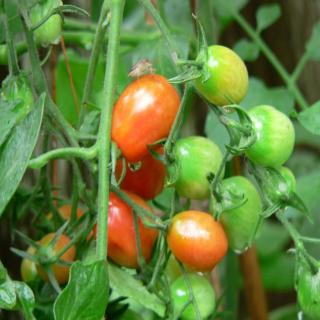tomato: (112, 67, 184, 162), (92, 188, 160, 270), (208, 175, 264, 251), (164, 209, 228, 271), (166, 136, 227, 200), (244, 104, 296, 170), (194, 46, 248, 107), (114, 143, 168, 199), (34, 231, 77, 286), (46, 205, 92, 243), (17, 243, 41, 291)
